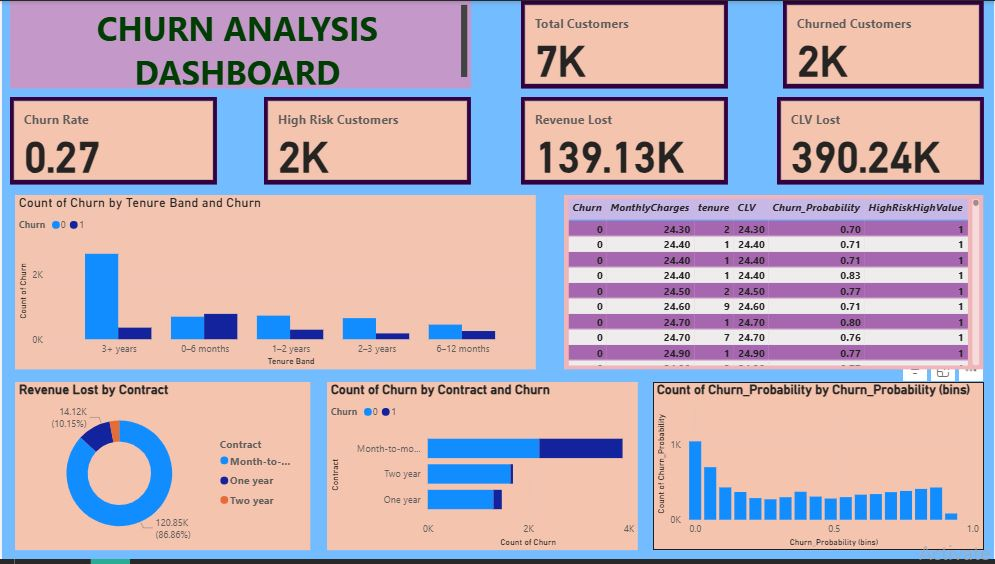

Layout of this report page (visuals, bound fields, positions):
{"tool":"powerbi","page":{"name":"Page 1","canvas":[1280,720],"ordinal":0},"visuals":[{"type":"textbox","box":[10.1,0,594.6,112.5],"z":0},{"type":"cardVisual","fields":{"Data":["churn_predictions_full.Total Customers"]},"box":[670.2,0,267.1,112.5],"z":1000},{"type":"cardVisual","fields":{"Data":["churn_predictions_full.Churned Customers"]},"box":[1007.9,0,258.7,112.5],"z":2000},{"type":"cardVisual","fields":{"Data":["churn_predictions_full.Revenue Lost"]},"box":[670.2,124.3,267.1,112.5],"z":3000},{"type":"cardVisual","fields":{"Data":["churn_predictions_full.High Risk Customers"]},"box":[337.6,124.3,267.1,112.5],"z":4000},{"type":"cardVisual","fields":{"Data":["churn_predictions_full.Churn Rate"]},"box":[10.1,124.3,267.1,112.5],"z":5000},{"type":"cardVisual","fields":{"Data":["churn_predictions_full.CLV Lost"]},"box":[999.5,124.3,267.1,112.5],"z":6000},{"type":"clusteredColumnChart","fields":{"Category":["churn_predictions_full.Churn_Probability (bins)"],"Y":["CountNonNull(churn_predictions_full.Churn_Probability)"]},"box":[839.9,492.2,426.7,216.7],"z":7000},{"type":"barChart","fields":{"Category":["churn_predictions_full.Contract"],"Y":["CountNonNull(churn_predictions_full.Churn)"],"Series":["churn_predictions_full.Churn"]},"box":[419.9,492.2,401.5,216.7],"z":8000},{"type":"clusteredColumnChart","fields":{"Category":["churn_predictions_full.Tenure Band"],"Y":["CountNonNull(churn_predictions_full.Churn)"],"Series":["churn_predictions_full.Churn"]},"box":[16.8,250.3,671.9,225.1],"z":9000},{"type":"tableEx","fields":{"Values":["churn_predictions_full.Churn","churn_predictions_full.MonthlyCharges","churn_predictions_full.tenure","churn_predictions_full.CLV","churn_predictions_full.Churn_Probability","churn_predictions_full.HighRiskHighValue"]},"box":[725.7,250.3,540.9,225.1],"z":11000},{"type":"donutChart","fields":{"Y":["churn_predictions_full.Revenue Lost"],"Category":["churn_predictions_full.Contract"]},"box":[16.8,492.2,381.3,216.7],"z":11001}]}

Visuals, with their boxes in screenshot pixels (x1, y1, x2, y2):
textbox: {"x1": 16, "y1": 0, "x2": 471, "y2": 86}
cardVisual - churn_predictions_full.Total Customers: {"x1": 522, "y1": 0, "x2": 726, "y2": 86}
cardVisual - churn_predictions_full.Churned Customers: {"x1": 780, "y1": 0, "x2": 979, "y2": 86}
cardVisual - churn_predictions_full.Revenue Lost: {"x1": 522, "y1": 95, "x2": 726, "y2": 182}
cardVisual - churn_predictions_full.High Risk Customers: {"x1": 267, "y1": 95, "x2": 471, "y2": 182}
cardVisual - churn_predictions_full.Churn Rate: {"x1": 16, "y1": 95, "x2": 220, "y2": 182}
cardVisual - churn_predictions_full.CLV Lost: {"x1": 774, "y1": 95, "x2": 979, "y2": 182}
clusteredColumnChart - churn_predictions_full.Churn_Probability (bins) x CountNonNull(churn_predictions_full.Churn_Probability): {"x1": 652, "y1": 377, "x2": 979, "y2": 543}
barChart - churn_predictions_full.Contract x CountNonNull(churn_predictions_full.Churn): {"x1": 330, "y1": 377, "x2": 637, "y2": 543}
clusteredColumnChart - churn_predictions_full.Tenure Band x CountNonNull(churn_predictions_full.Churn): {"x1": 21, "y1": 192, "x2": 536, "y2": 364}
tableEx - churn_predictions_full.Churn x churn_predictions_full.MonthlyCharges: {"x1": 564, "y1": 192, "x2": 979, "y2": 364}
donutChart - churn_predictions_full.Revenue Lost x churn_predictions_full.Contract: {"x1": 21, "y1": 377, "x2": 313, "y2": 543}
